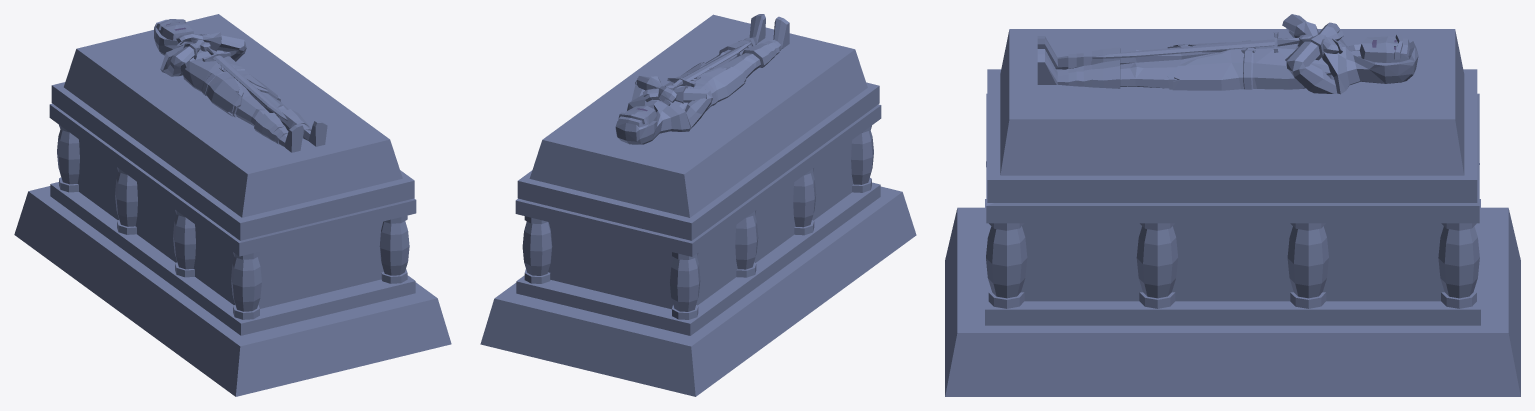
The model's file is Sarcophage 03.fbx.
3 views of the same model, side by side, from view 1: azimuth 30°, elevation 25°; view 2: azimuth 150°, elevation 25°; view 3: azimuth 270°, elevation 25° (orthographic). The views are drawn at different scales.
Visible parts, largest first — view 1: Sarcophage 03, Sarcophage 03 Lid; view 2: Sarcophage 03, Sarcophage 03 Lid; view 3: Sarcophage 03, Sarcophage 03 Lid.
Part boxes in pixels (bbox=[...]): Sarcophage 03: bbox=[14, 103, 451, 396]; Sarcophage 03 Lid: bbox=[51, 14, 414, 240]; Sarcophage 03: bbox=[480, 104, 916, 396]; Sarcophage 03 Lid: bbox=[517, 14, 879, 240]; Sarcophage 03: bbox=[945, 93, 1520, 396]; Sarcophage 03 Lid: bbox=[987, 14, 1477, 202].
Bounding box in the file's own units: 204 × 209 × 363.
